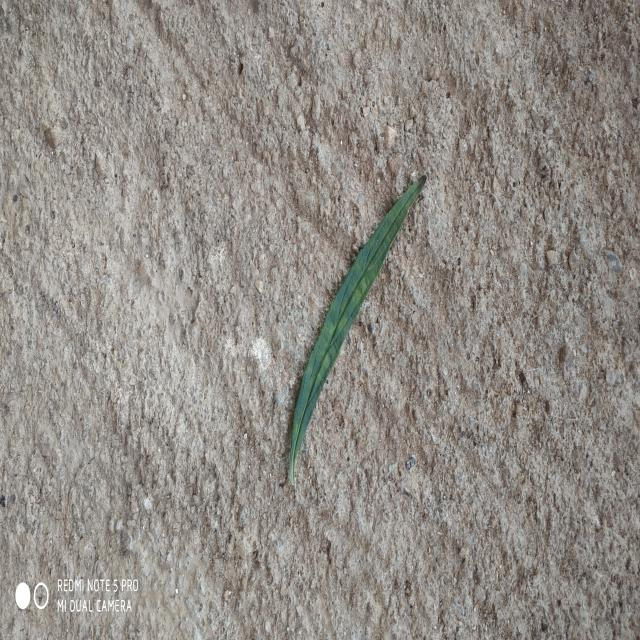defectedthambe: (308, 236, 388, 382)
thambe: (290, 176, 426, 484)
